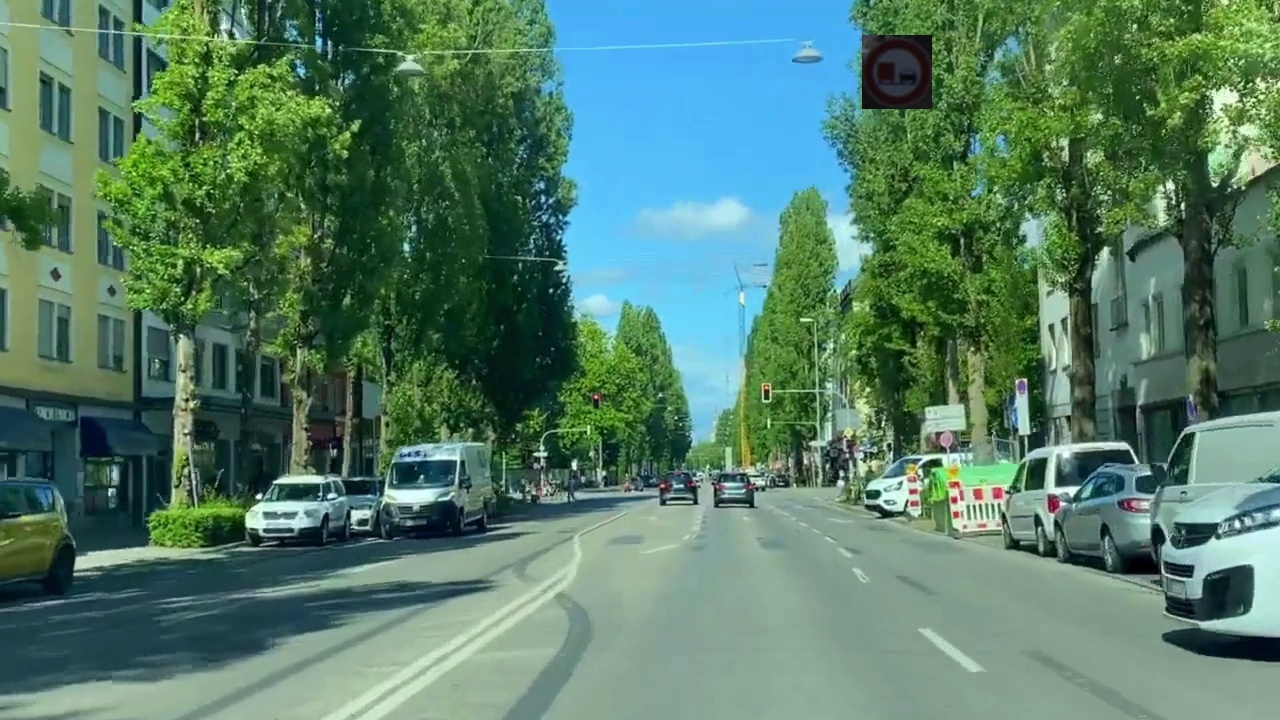No pass >3.5t: (862, 35, 932, 109)
